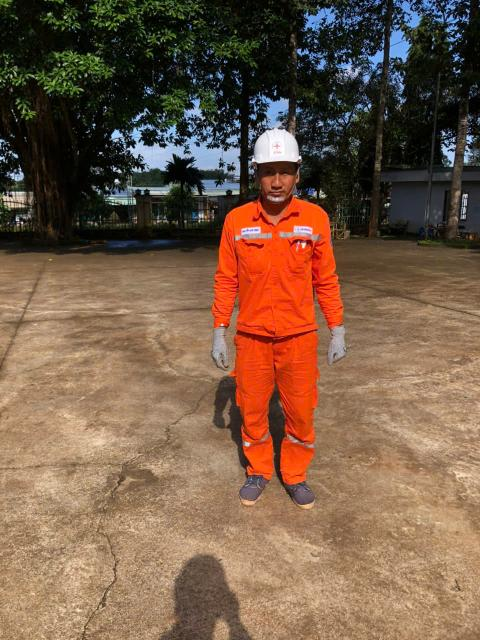gloves: (193, 317, 239, 374), (322, 317, 354, 370)
helmet: (239, 127, 320, 178)
shoes: (277, 456, 325, 517), (226, 459, 272, 511)
